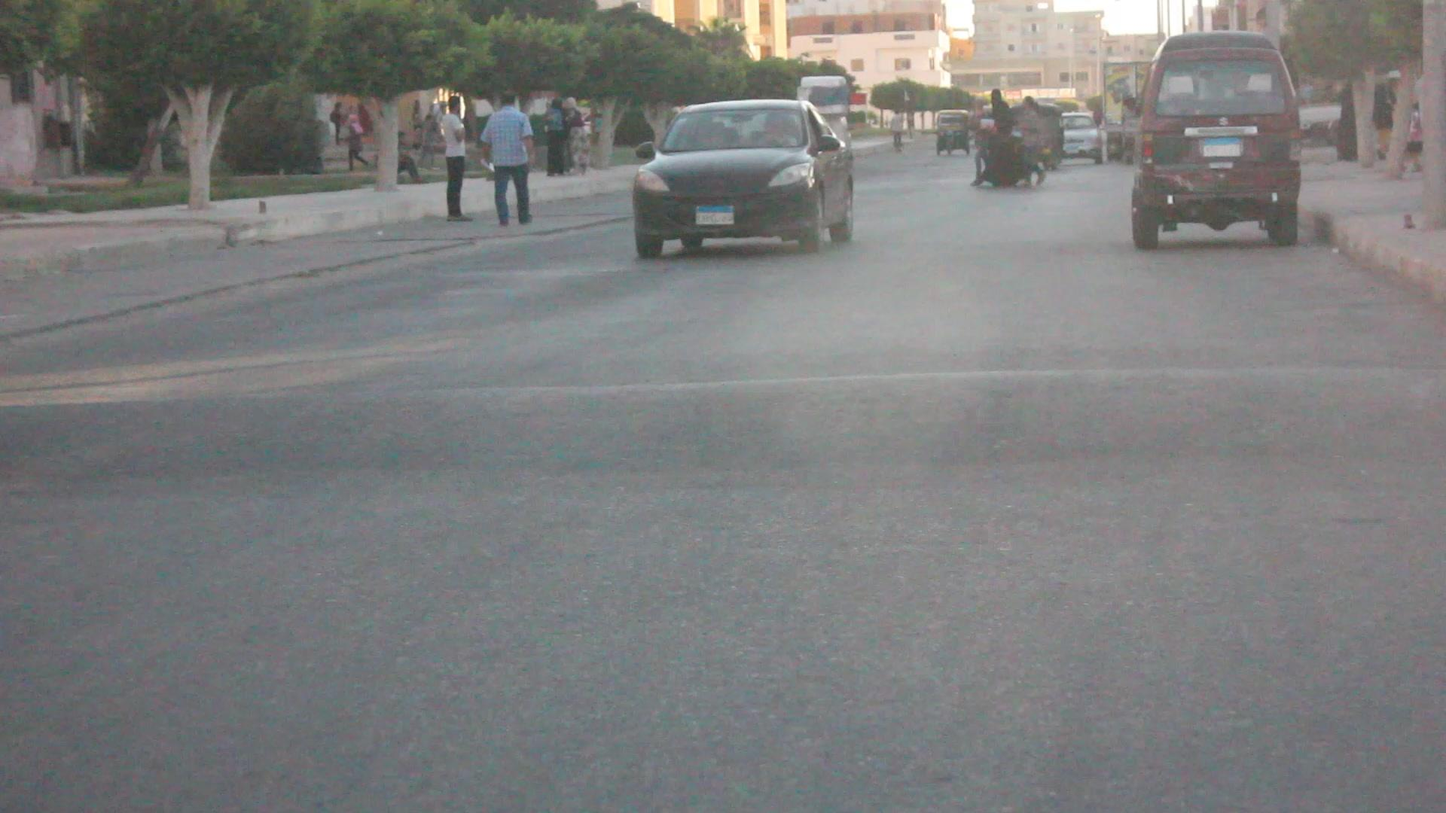Bump: (4, 348, 1446, 476)
